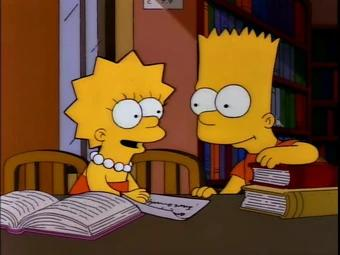Bart: (186, 28, 331, 197)
Lisa: (48, 44, 185, 202)
